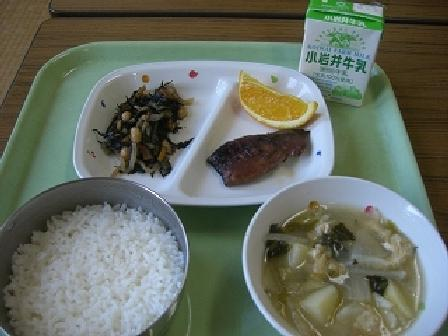Citrus: (230, 63, 318, 127)
Milk: (297, 2, 389, 101)
Rice: (4, 170, 185, 335)
Soups: (248, 186, 446, 335)
fried fish: (204, 121, 311, 185)
salad with sauce: (90, 78, 196, 172)
